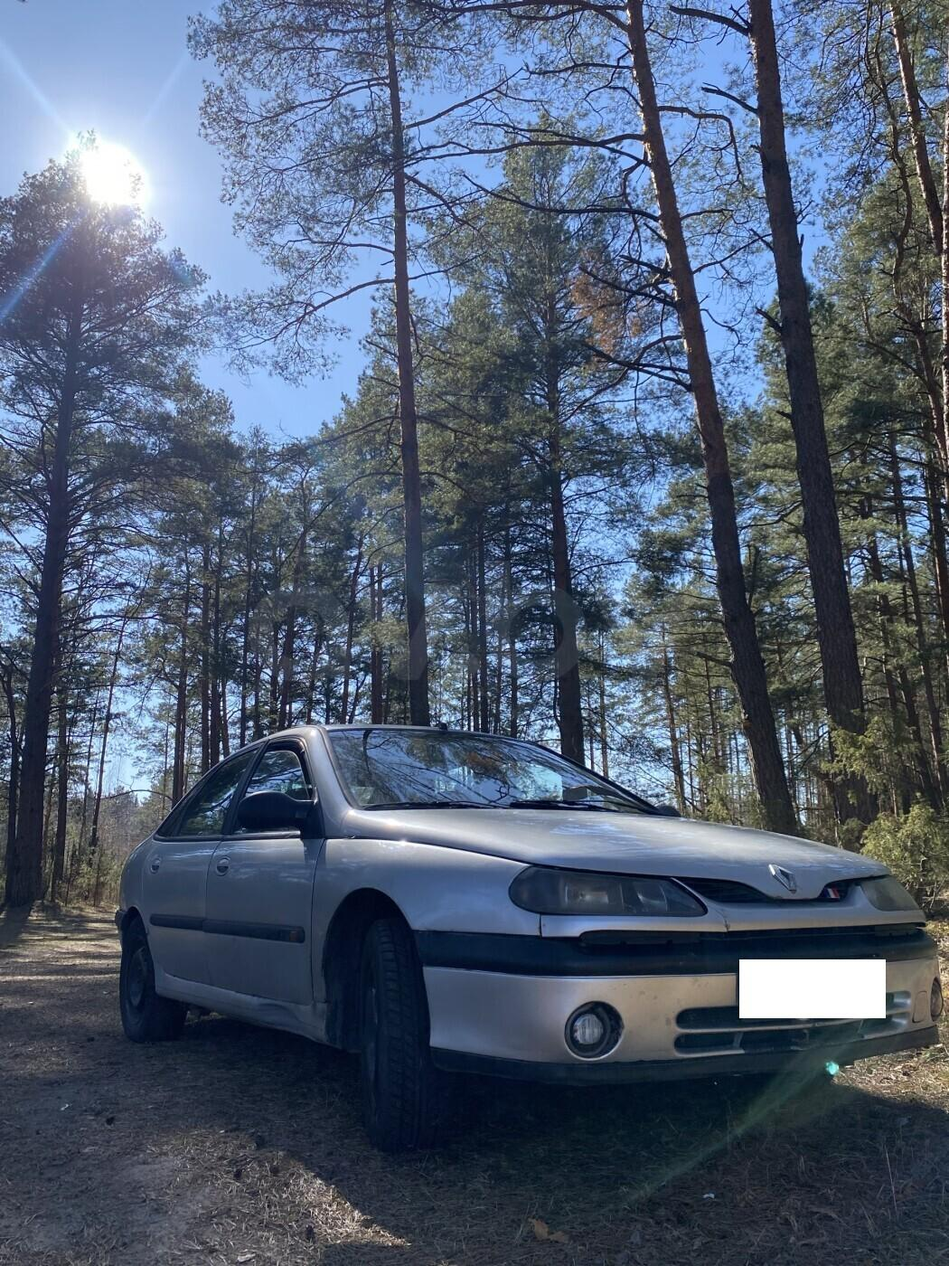Laguna_1998-2001: (114, 713, 949, 1141)
